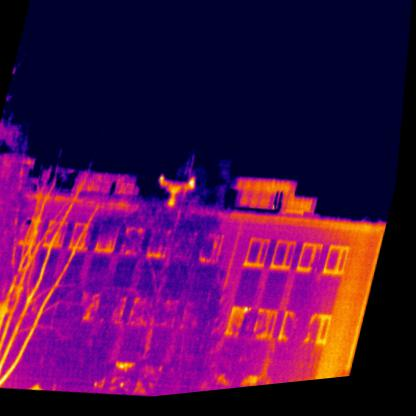drone: (155, 173, 200, 215)
